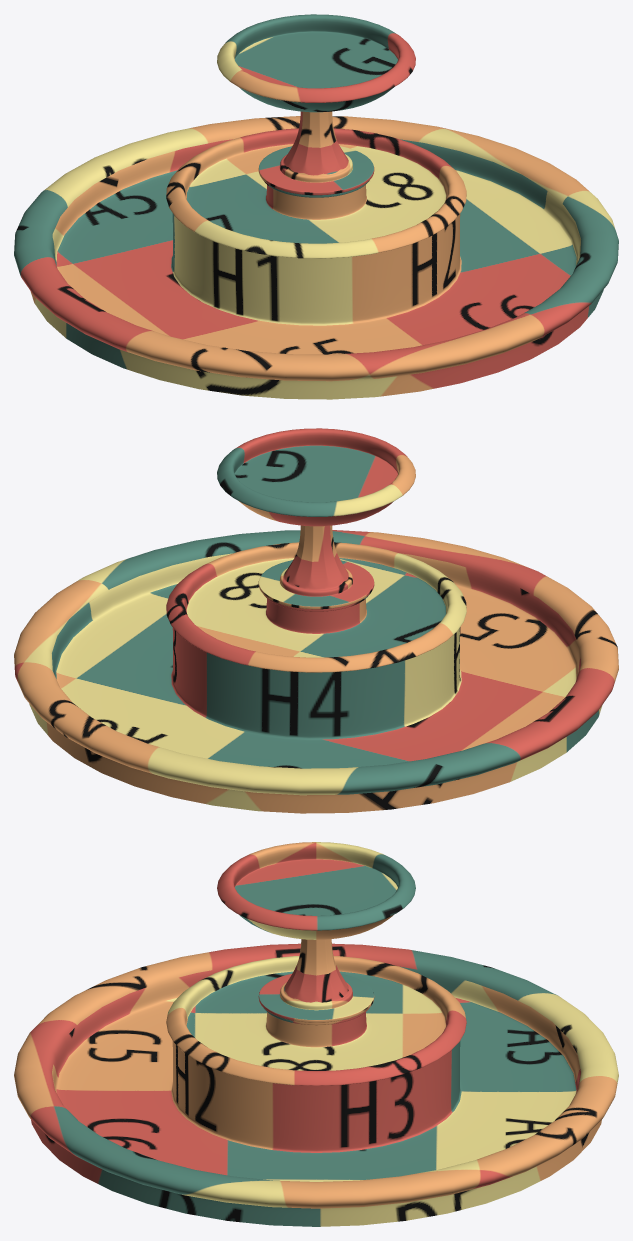
File: Fountain_HP.fbx
3 renders of one model, top to bottom at view 1: azimuth 30°, elevation 25°; view 2: azimuth 150°, elevation 25°; view 3: azimuth 270°, elevation 25°, orthographic.
Visible parts, largest first — view 1: Fountain_HP_1; view 2: Fountain_HP_1; view 3: Fountain_HP_1.
Part boxes in pixels (left/top/right/bottom): Fountain_HP_1: left=14, top=14, right=618, bottom=399; Fountain_HP_1: left=14, top=428, right=618, bottom=813; Fountain_HP_1: left=14, top=842, right=618, bottom=1226.
Size of the model in its own units: 1037 by 426 by 1037.
